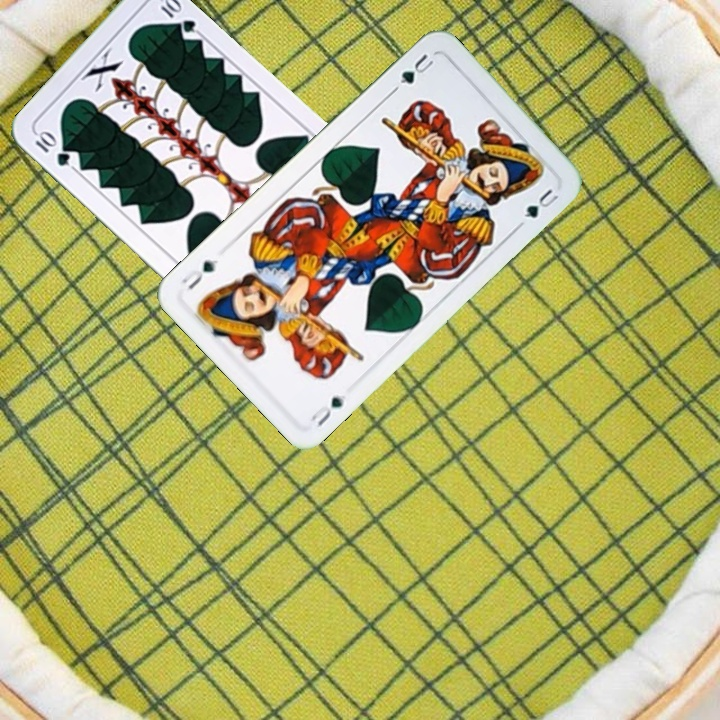G10: (31, 127, 73, 169)
GU: (306, 390, 349, 430), (395, 49, 437, 87)
